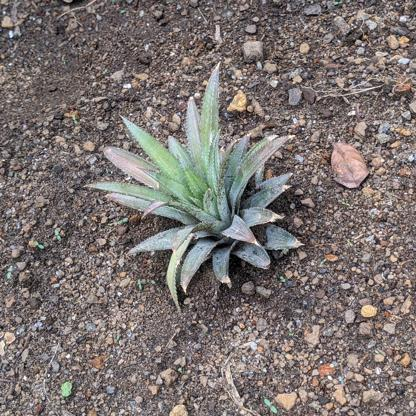pineapple: (84, 61, 303, 306)
